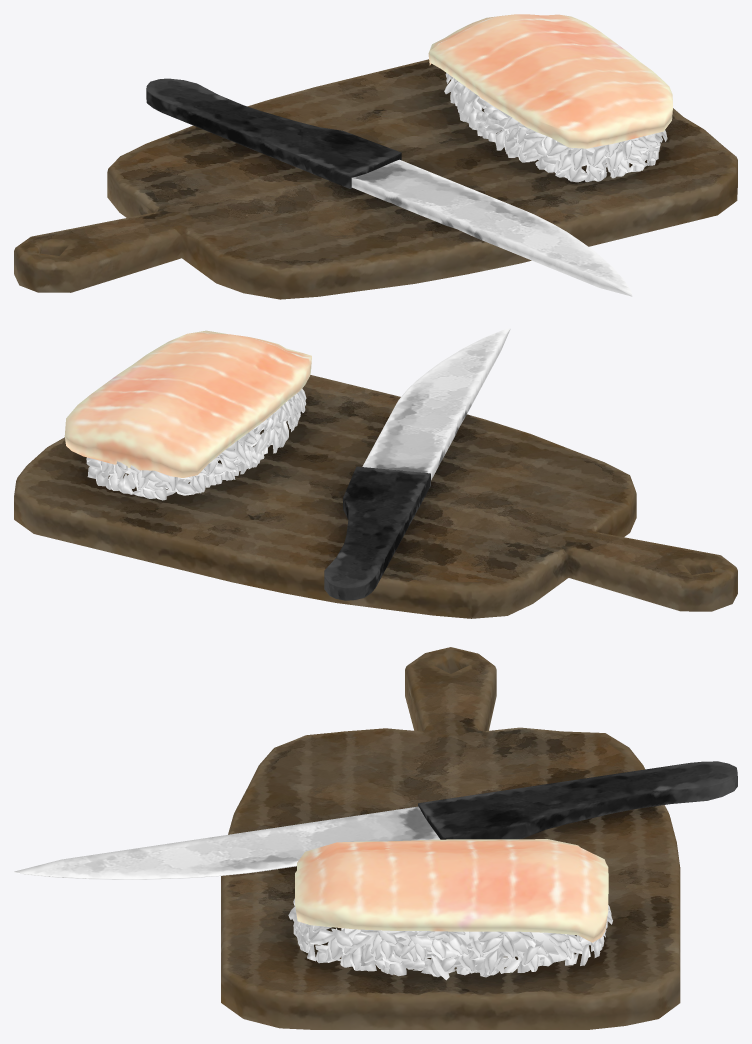
3 views of the same model, one above another, from view 1: azimuth 30°, elevation 25°; view 2: azimuth 150°, elevation 25°; view 3: azimuth 270°, elevation 25° (orthographic). The views are drawn at different scales.
Parts seen in each view (by area): view 1: pasted__Rice2; view 2: pasted__Rice2; view 3: pasted__Rice2.
Boxes of the visible parts, <box> form: pasted__Rice2: <box>14,14,737,299</box>; pasted__Rice2: <box>14,328,737,618</box>; pasted__Rice2: <box>14,647,737,1029</box>.
Bounding box in the file's own units: 8.21 × 1.21 × 7.15.
Materials: 6 (6 with a texture image).
